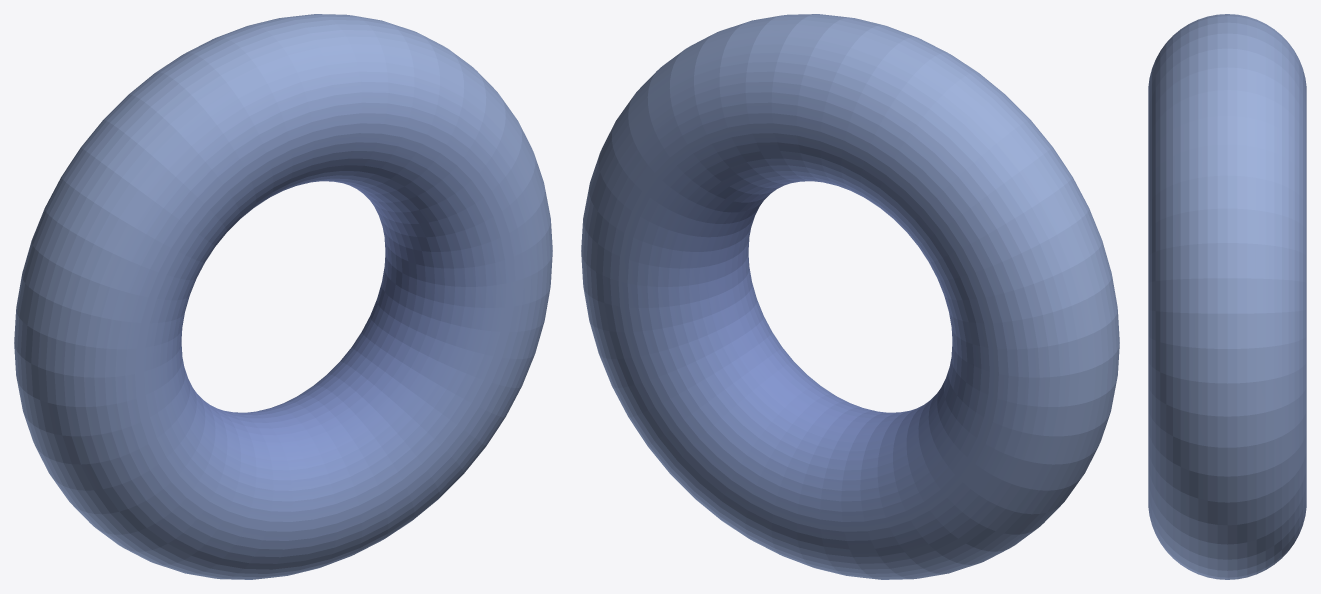
3 renders of one model, left to right at view 1: azimuth 30°, elevation 25°; view 2: azimuth 150°, elevation 25°; view 3: azimuth 270°, elevation 25°, orthographic. The views are drawn at different scales.
Visible parts, largest first — view 1: world; view 2: world; view 3: world.
Boxes of the visible parts, <box> form: world: <box>14,14,552,579</box>; world: <box>581,14,1119,579</box>; world: <box>1148,14,1306,579</box>.
Bounding box in the file's own units: 19.47 × 19.43 × 5.46.
